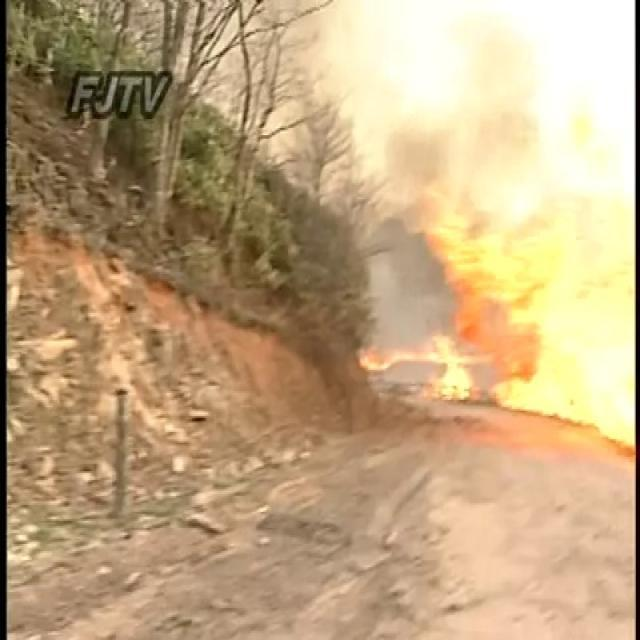Fire: (448, 230, 540, 300)
